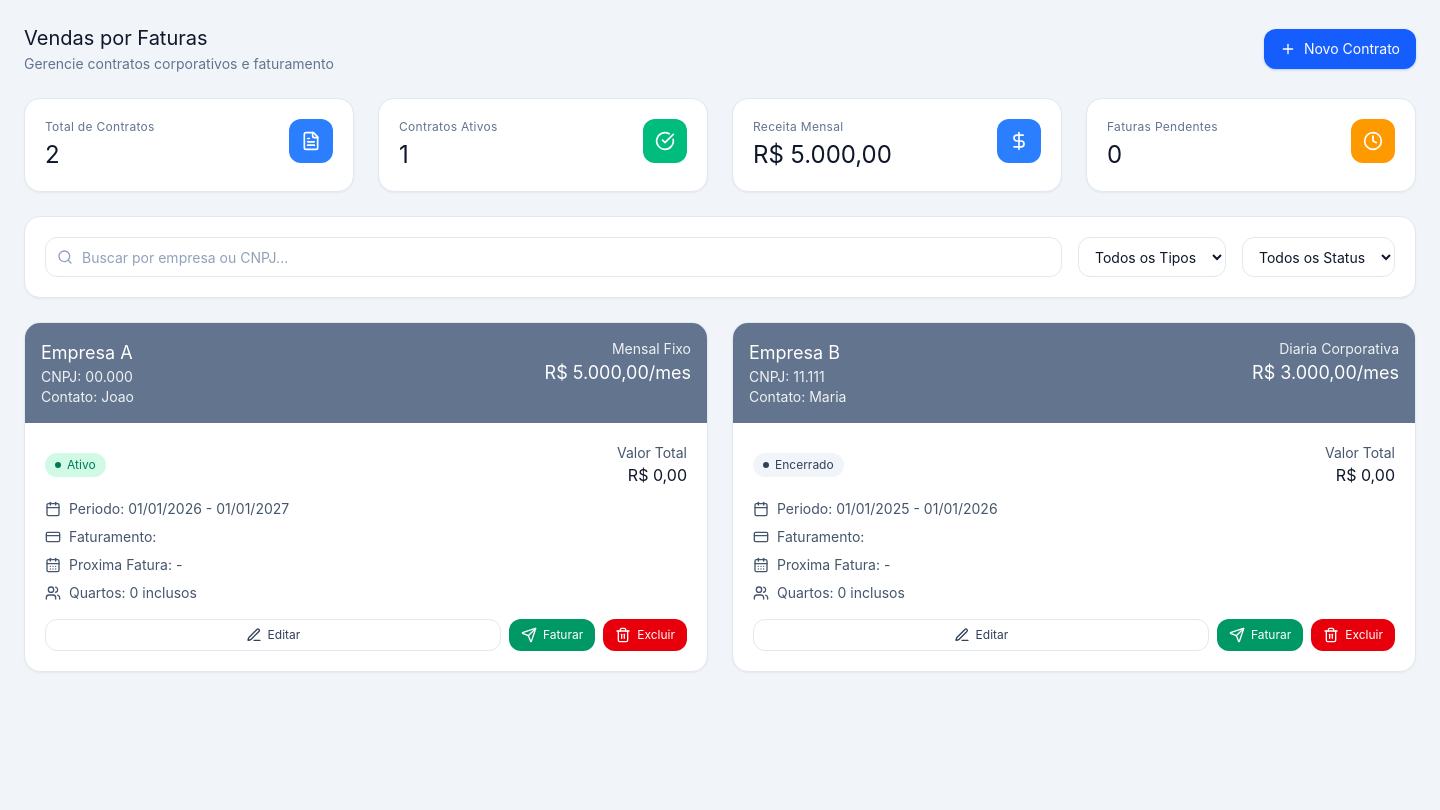
Faturas (expanded) › filters by search term
Type "Empresa A" into the search field with placeholder "Buscar por empresa ou CNPJ..." at {"x": 554, "y": 257}, box [45,237,1062,277]
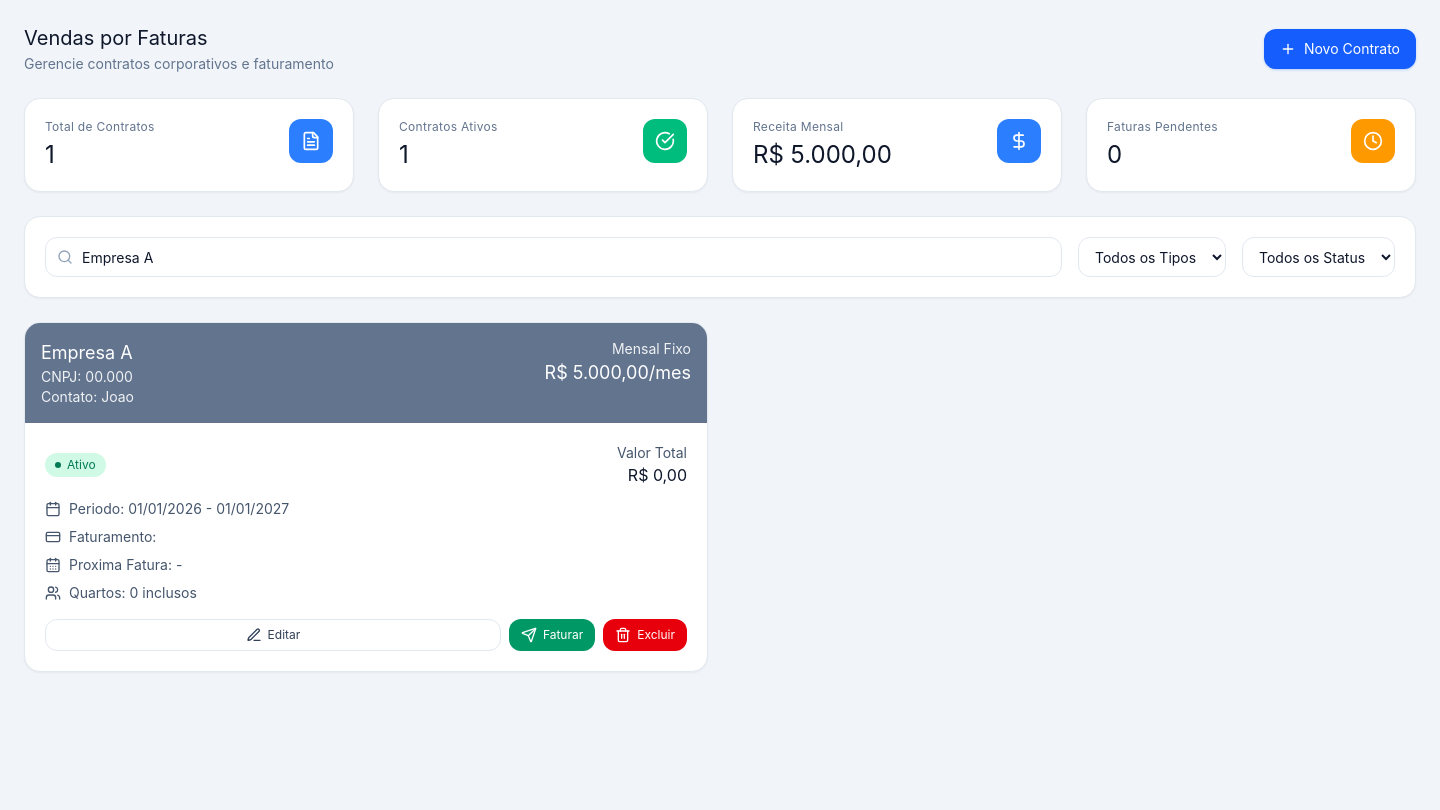
expect the heading "Empresa A" is shown: met, box [41,342,133,363]
expect the heading "Empresa B" is gone: met
